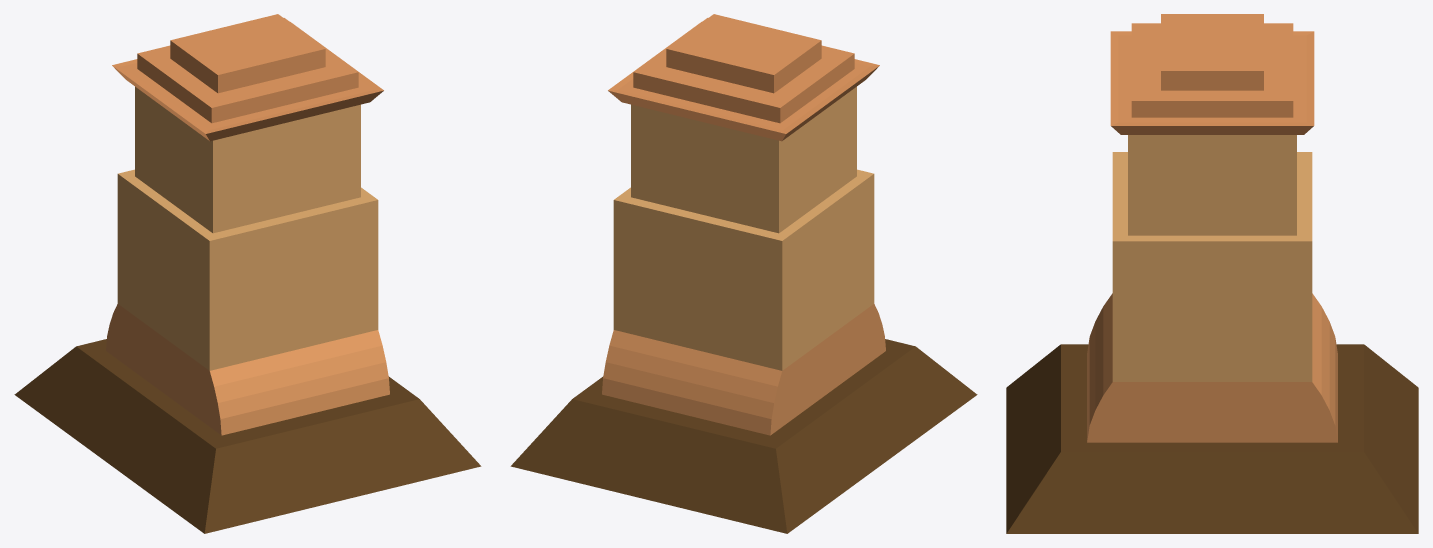
3 renders of one model, left to right at view 1: azimuth 30°, elevation 25°; view 2: azimuth 150°, elevation 25°; view 3: azimuth 270°, elevation 25°, orthographic. The views are drawn at different scales.
Parts seen in each view (by area): view 1: Cube.001; view 2: Cube.001; view 3: Cube.001.
Boxes of the visible parts, x1,y1,x2,y2 form: Cube.001: (14,14,481,533); Cube.001: (510,14,977,533); Cube.001: (1006,14,1418,533).
Bounding box in the file's own units: 1.63 × 2.17 × 1.94.
